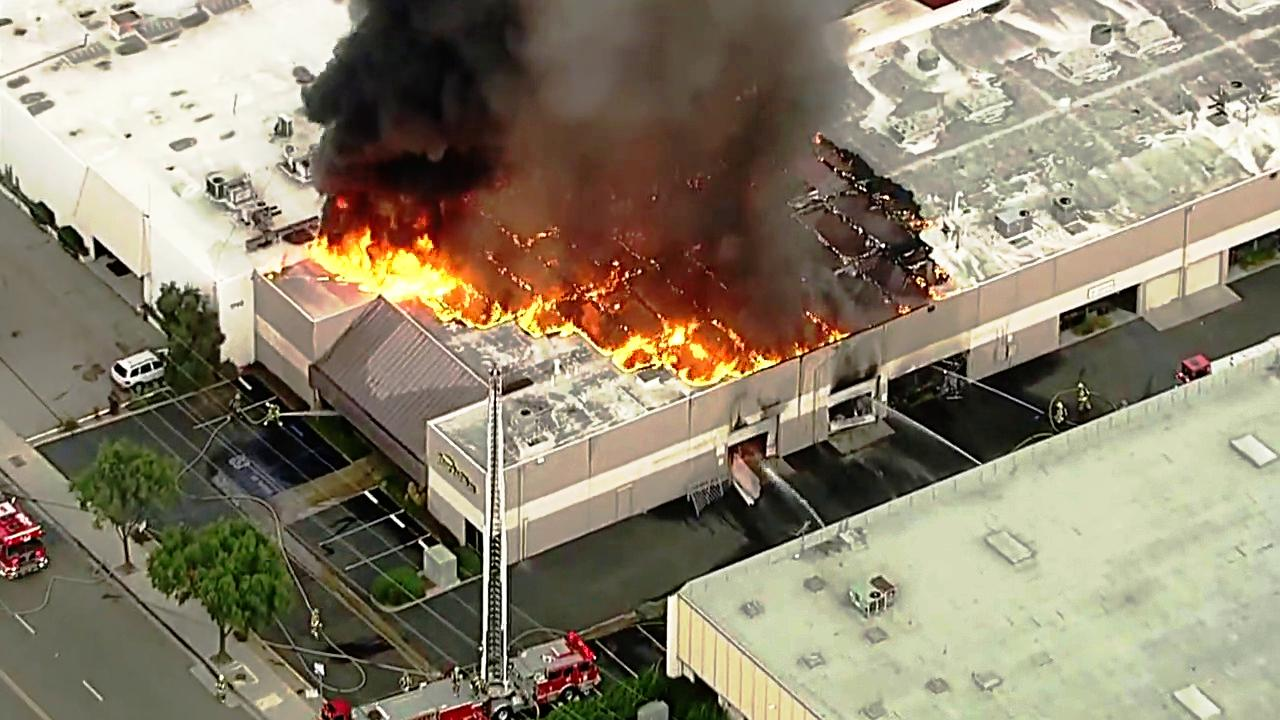fire: (307, 220, 453, 306)
smoke: (310, 7, 499, 207)
